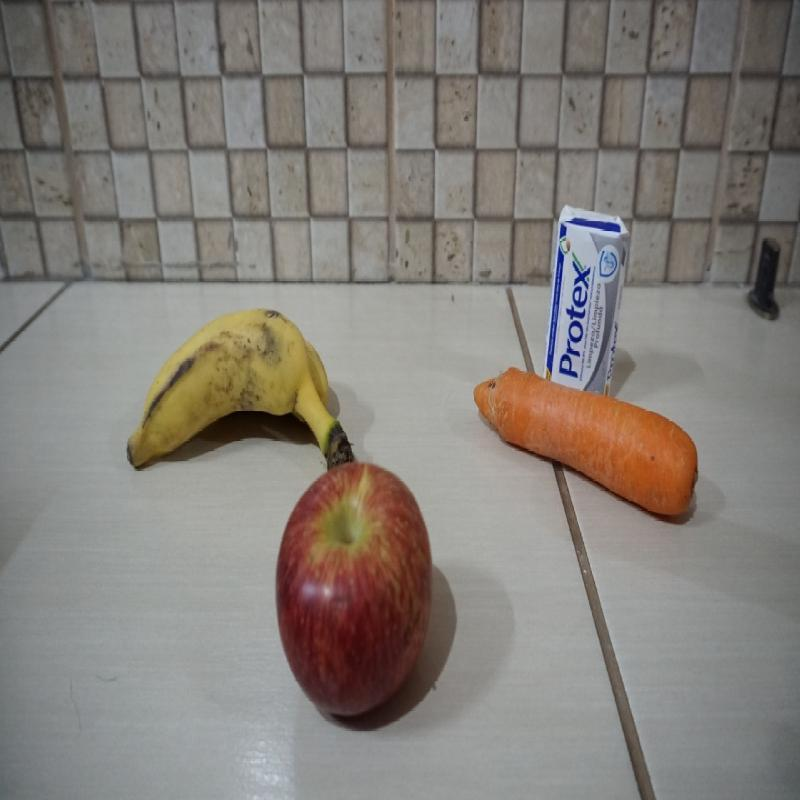Apple: (274, 467, 438, 712)
Banana: (122, 305, 364, 466)
Carrot: (473, 392, 705, 522)
Soap: (548, 202, 630, 381)
